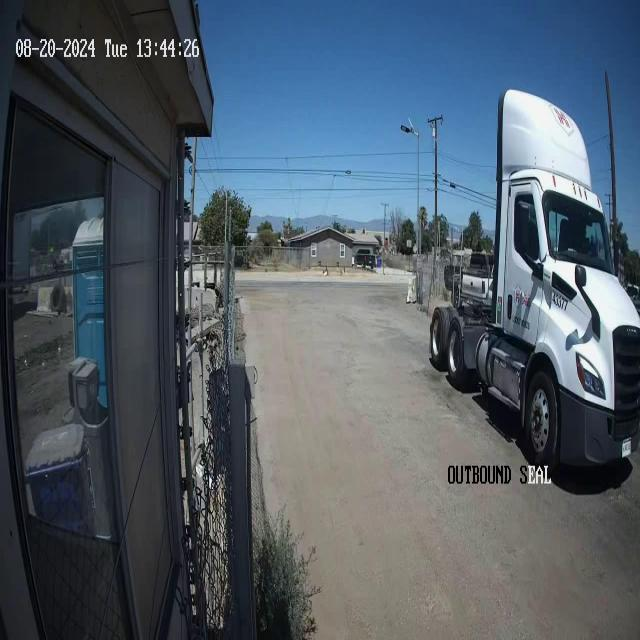BOBTAIL: (428, 86, 640, 475)
